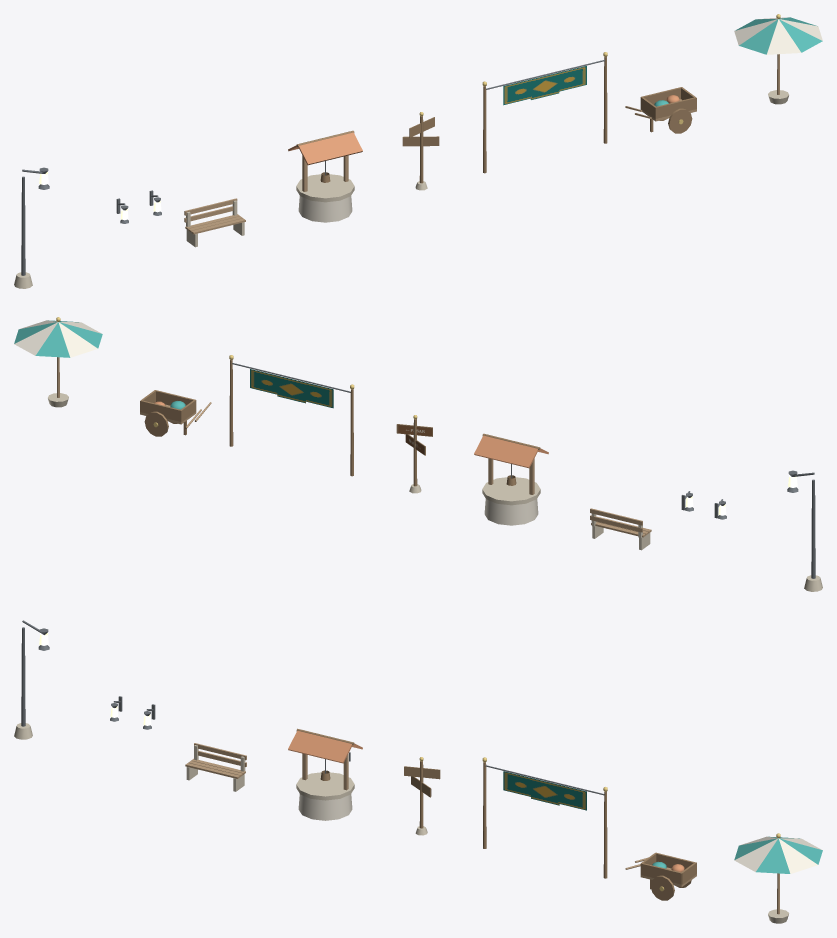
The model's file is kit-18-props-eksterior.glb.
The picture shows the model from 3 angles, top to bottom: view 1: azimuth 30°, elevation 25°; view 2: azimuth 150°, elevation 25°; view 3: azimuth 330°, elevation 25°; orthographic projection.
Visible parts, largest first — view 1: PropEx_Sumur, PropEx_PayungTaman, PropEx_BannerGantung, PropEx_Gerobak, PropEx_BangkuTaman, PropEx_LampuJalan, PropEx_PapanArah; view 2: PropEx_Sumur, PropEx_PayungTaman, PropEx_BannerGantung, PropEx_Gerobak, PropEx_BangkuTaman, PropEx_LampuJalan, PropEx_PapanArah; view 3: PropEx_Sumur, PropEx_PayungTaman, PropEx_BannerGantung, PropEx_Gerobak, PropEx_BangkuTaman, PropEx_LampuJalan, PropEx_PapanArah.
Boxes of the visible parts, <box> form: PropEx_Sumur: <box>288,130,362,222</box>; PropEx_PayungTaman: <box>734,14,822,104</box>; PropEx_BannerGantung: <box>482,52,607,173</box>; PropEx_Gerobak: <box>625,87,696,133</box>; PropEx_BangkuTaman: <box>184,198,245,247</box>; PropEx_LampuJalan: <box>14,167,49,288</box>; PropEx_PapanArah: <box>402,112,439,190</box>; PropEx_Sumur: <box>474,433,548,525</box>; PropEx_PayungTaman: <box>14,317,102,407</box>; PropEx_BannerGantung: <box>229,355,354,476</box>; PropEx_Gerobak: <box>140,390,211,436</box>; PropEx_BangkuTaman: <box>590,508,651,550</box>; PropEx_LampuJalan: <box>787,470,822,591</box>; PropEx_PapanArah: <box>396,415,432,493</box>; PropEx_Sumur: <box>288,728,362,820</box>; PropEx_PayungTaman: <box>734,833,822,923</box>; PropEx_BannerGantung: <box>482,757,607,878</box>; PropEx_Gerobak: <box>625,852,696,900</box>; PropEx_BangkuTaman: <box>185,743,246,791</box>; PropEx_LampuJalan: <box>14,620,49,739</box>; PropEx_PapanArah: <box>404,757,440,835</box>.
Size of the model in its own units: 29.25 by 4.02 by 2.9.
Materials: 14 (3 with a texture image).
